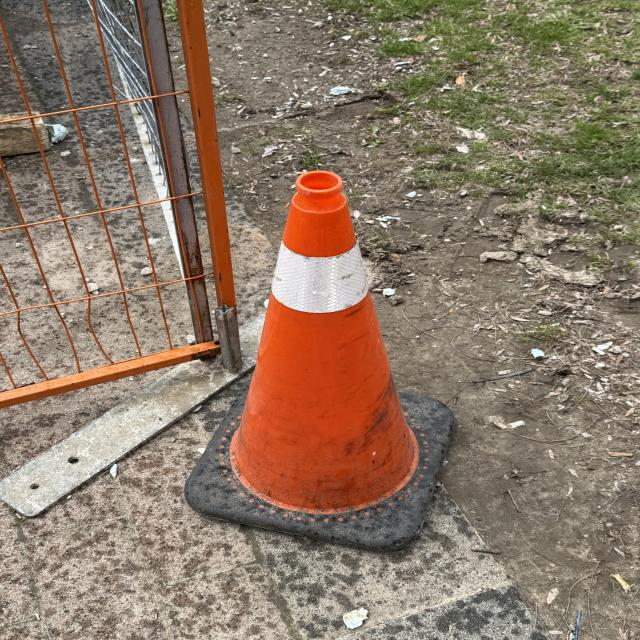Traffic Cone: (184, 170, 458, 552)
